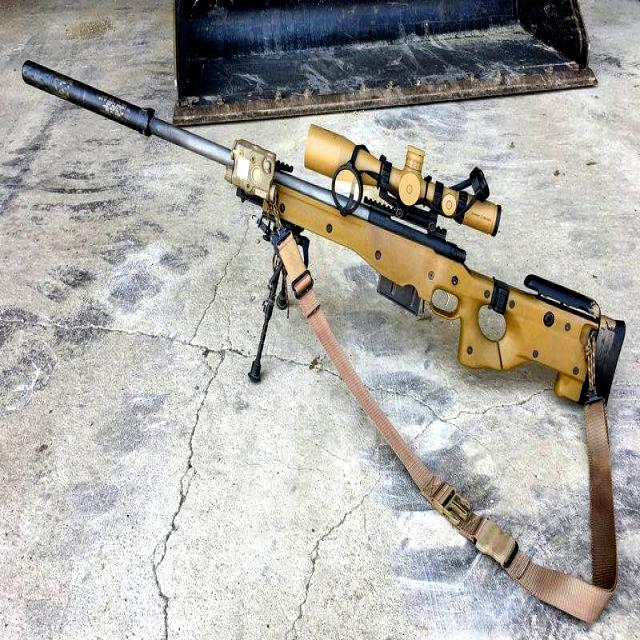rifle: (18, 49, 633, 456)
